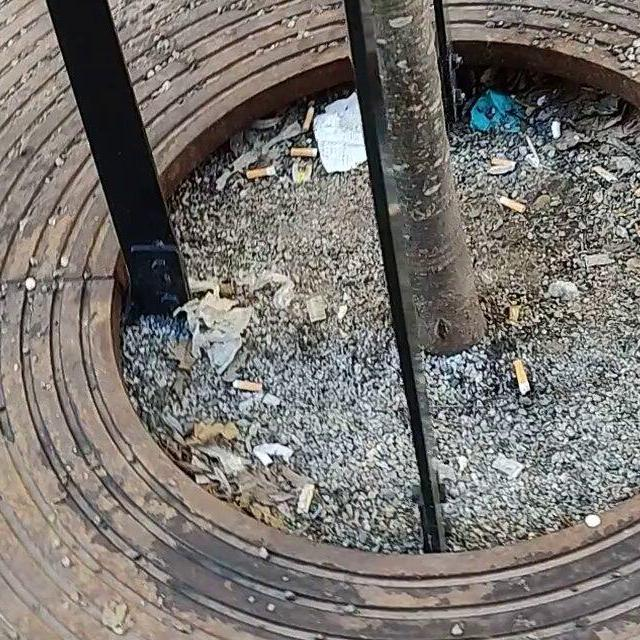Cigarette Butt: (483, 154, 518, 174), (512, 360, 531, 395), (497, 196, 530, 214), (229, 376, 261, 392), (299, 102, 315, 130), (242, 166, 275, 177), (285, 148, 318, 158), (635, 179, 640, 199)
